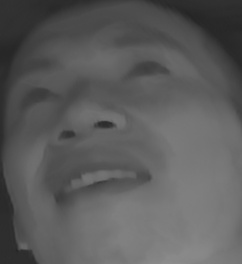eye: (12, 76, 62, 111), (118, 57, 179, 84)
mouth: (48, 148, 151, 218)
